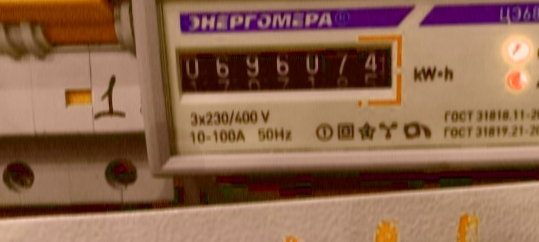0: (181, 53, 201, 78), (303, 49, 320, 74)
4: (361, 47, 378, 70)
5: (363, 72, 379, 88)
6: (274, 49, 292, 76), (213, 52, 231, 77)
7: (333, 49, 351, 74)
9: (243, 51, 260, 77)
screen: (165, 30, 406, 104)
